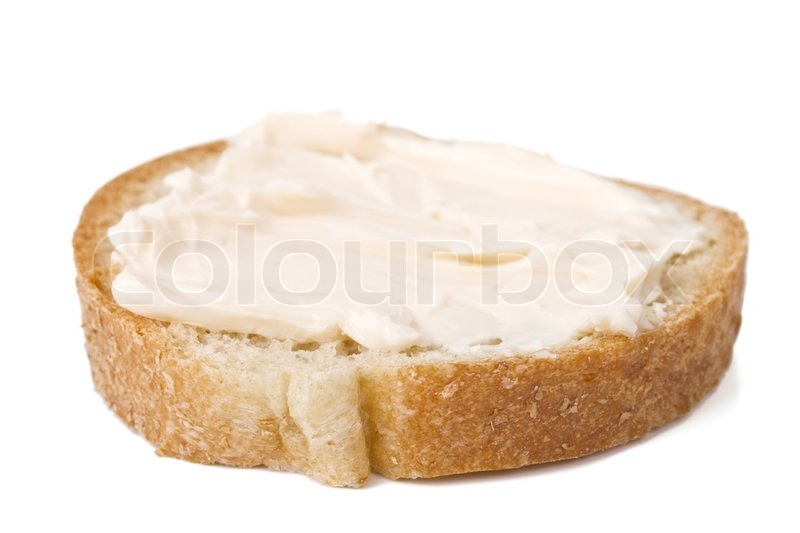slice of bread: (76, 142, 743, 488)
